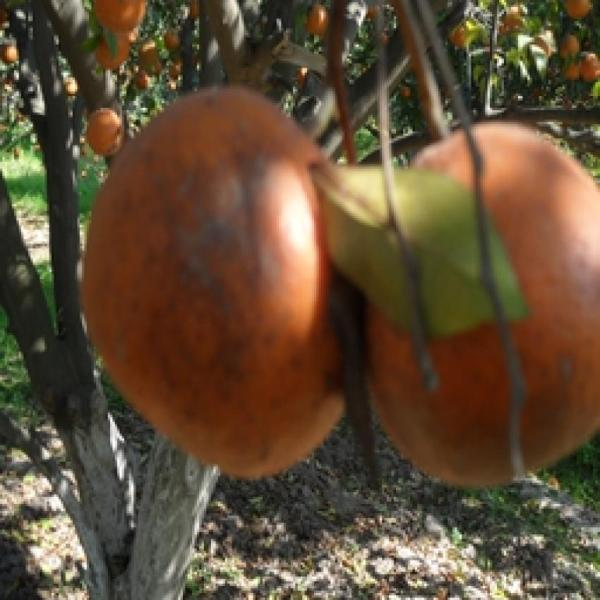Canker: (75, 81, 368, 480), (370, 112, 600, 485)
